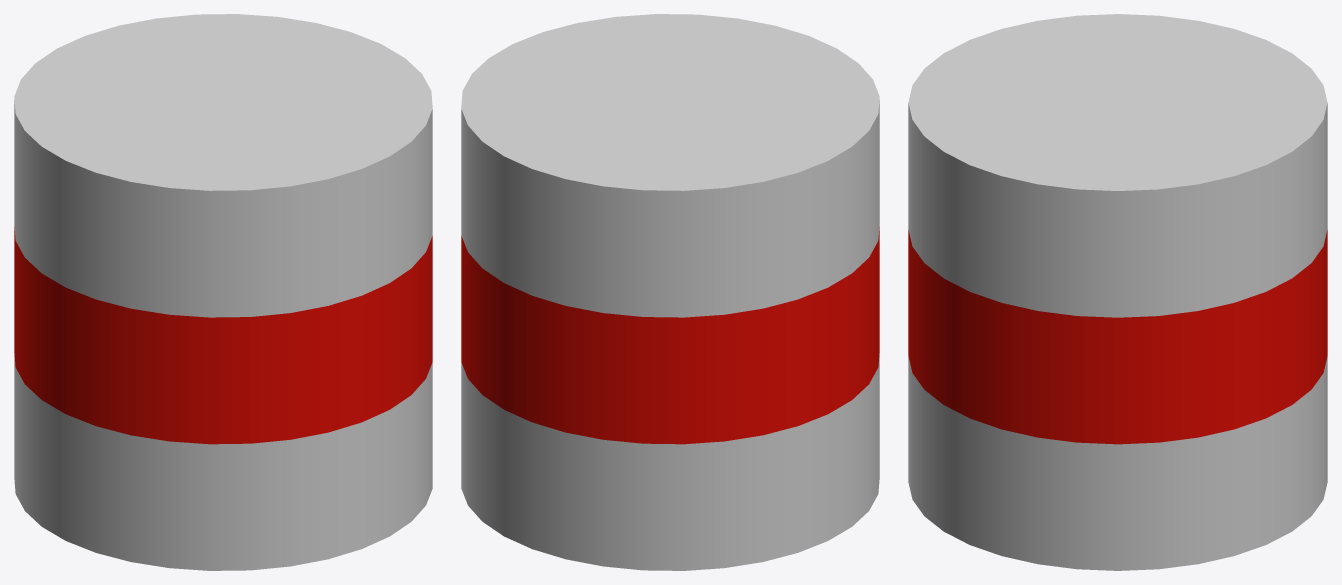
3 renders of one model, left to right at view 1: azimuth 30°, elevation 25°; view 2: azimuth 150°, elevation 25°; view 3: azimuth 270°, elevation 25°, orthographic.
Visible parts, largest first — view 1: Cylinder; view 2: Cylinder; view 3: Cylinder.
Part boxes in pixels (left/top/right/bottom): Cylinder: left=14, top=14, right=432, bottom=570; Cylinder: left=461, top=14, right=879, bottom=570; Cylinder: left=908, top=14, right=1327, bottom=570.
Bounding box in the file's own units: 2 × 2 × 2.
